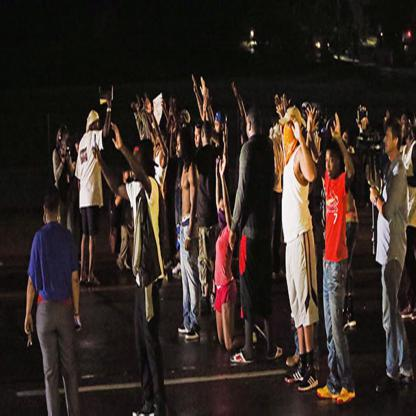face: (327, 149, 338, 179), (384, 127, 395, 154), (285, 119, 295, 145), (134, 149, 142, 173), (177, 135, 186, 156), (274, 119, 282, 140), (196, 127, 203, 148), (63, 133, 70, 151), (94, 116, 101, 133), (123, 172, 130, 189), (215, 120, 222, 137), (247, 113, 252, 136), (303, 107, 309, 125), (343, 132, 349, 150), (220, 200, 226, 217), (180, 112, 186, 129), (367, 166, 372, 184), (156, 140, 161, 155), (76, 143, 82, 155), (402, 115, 407, 129), (384, 113, 388, 128), (402, 126, 406, 141), (133, 169, 137, 183)
